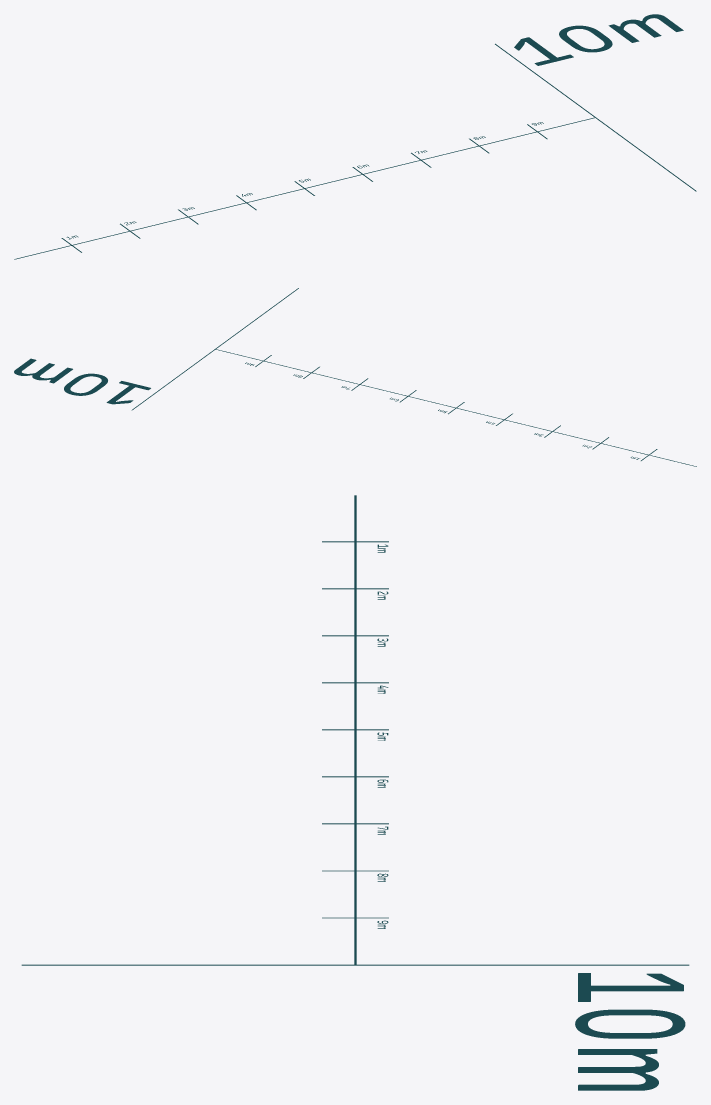
3 renders of one model, top to bottom at view 1: azimuth 30°, elevation 25°; view 2: azimuth 150°, elevation 25°; view 3: azimuth 270°, elevation 25°, orthographic. The views are drawn at different scales.
Parts seen in each view (by area): view 1: Text.009, Plane; view 2: Text.009, Plane; view 3: Text.009, Plane, Plane.010.
Part boxes in pixels (<box>): Text.009: <box>514,14,683,65</box>; Plane: <box>14,117,595,259</box>; Text.009: <box>14,358,150,404</box>; Plane: <box>215,349,696,466</box>; Text.009: <box>575,973,685,1090</box>; Plane: <box>354,495,356,965</box>; Plane.010: <box>21,964,689,965</box>.
Size of the model in its own units: 12.66 by 0 by 6.
